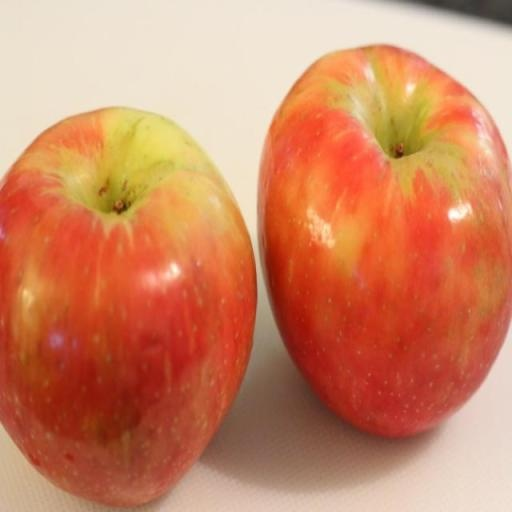fruit: (0, 108, 255, 504), (259, 46, 511, 436)
